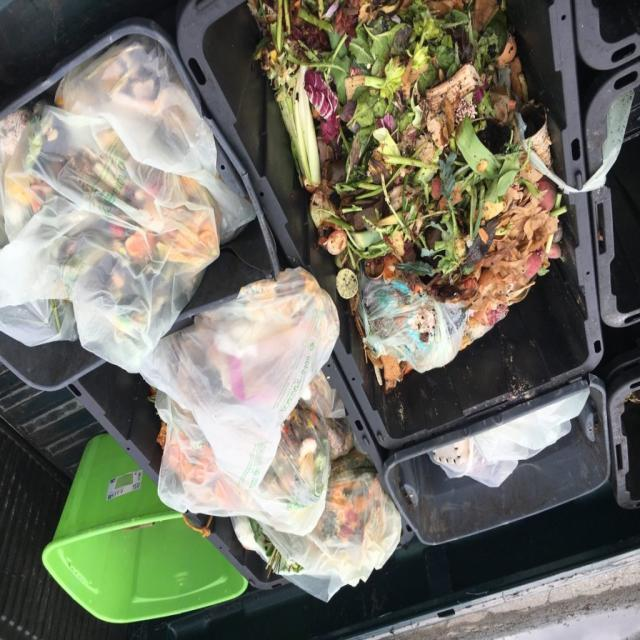Garbage: (250, 2, 565, 392), (141, 269, 401, 600), (0, 36, 255, 372), (431, 396, 586, 487)
Plastic_Bag: (0, 105, 220, 372), (140, 268, 339, 488), (55, 35, 252, 241), (231, 451, 401, 602), (158, 398, 330, 535), (465, 389, 589, 487), (356, 274, 466, 372), (0, 299, 78, 347)
